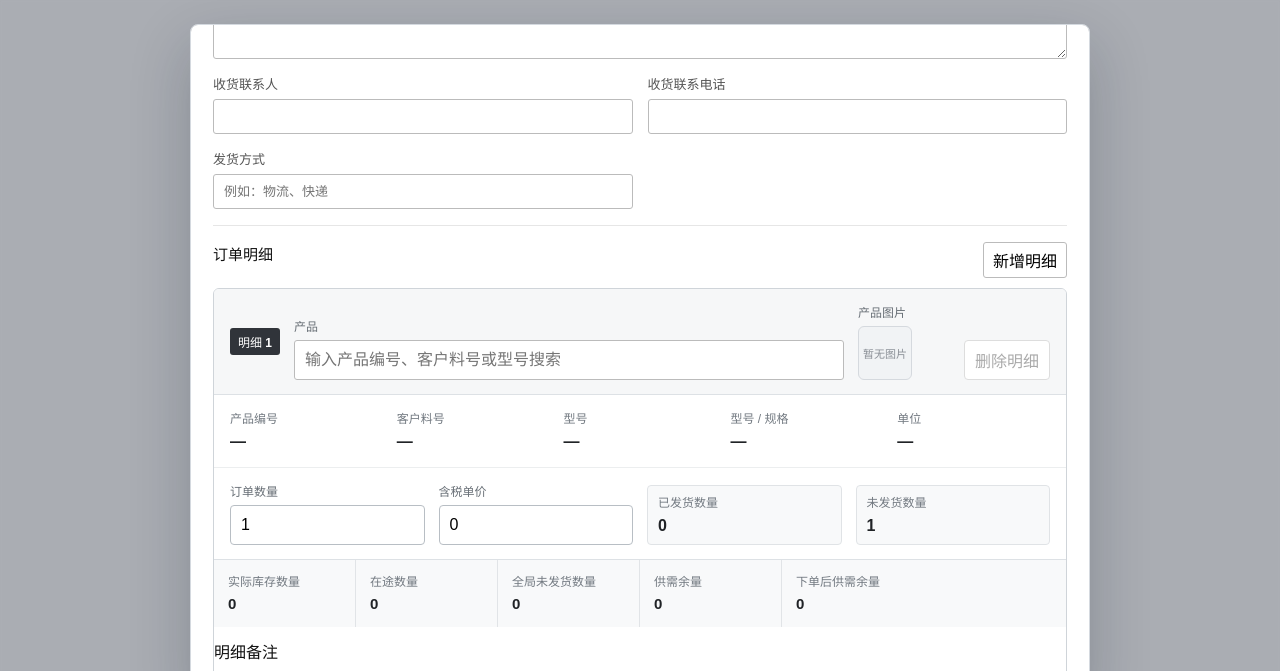
searches and displays product identifiers with product code first
(page scrolled)
Type "BR_D51-B" into the dropdown labelled "产品" at point(569, 360), box [294,340,844,380]
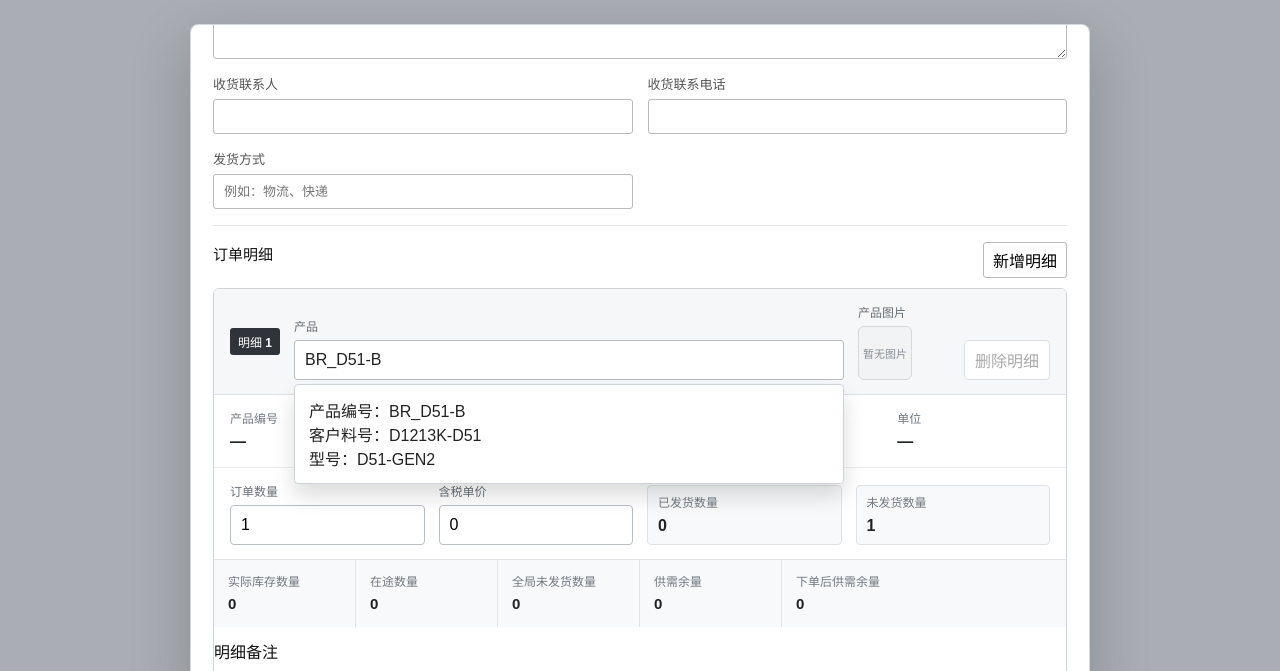
Now the option with test id "fuzzy-option-22" reads "产品编号：BR_D51-B 客户料号：D1213K-D51 型号：D51-GEN2"
Click the option with test id "fuzzy-option-22" at point(387, 412), box [299,389,839,479]
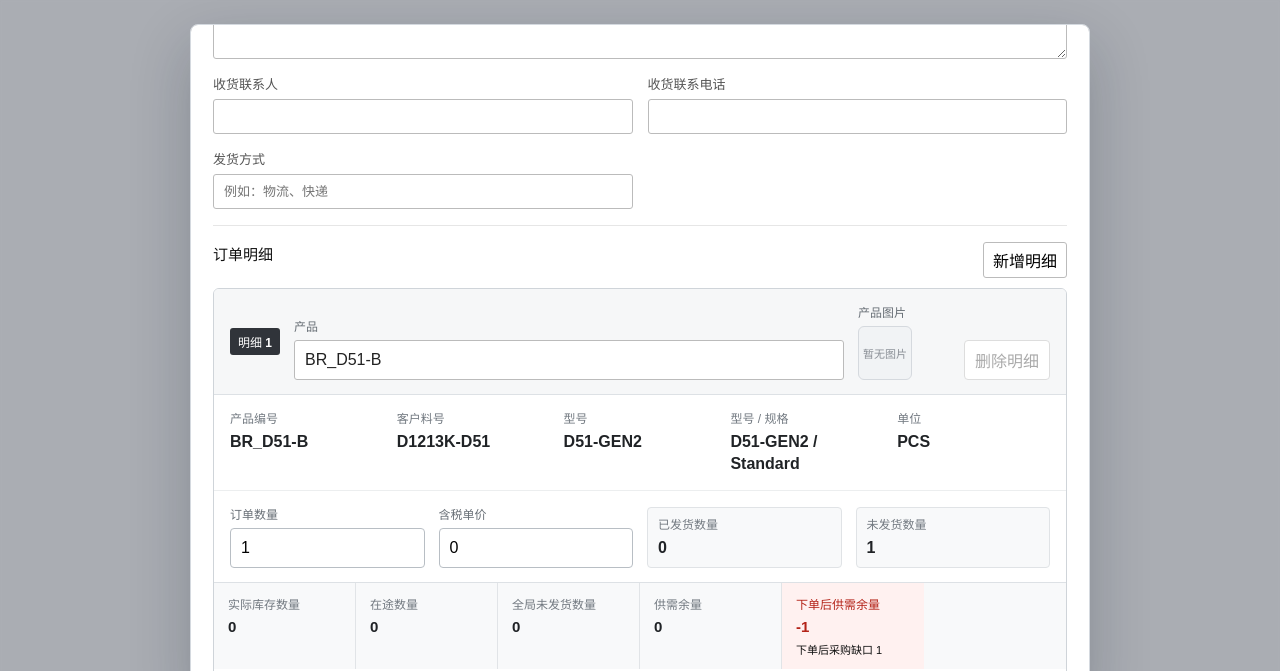
Now the element with test id "order-product-identifiers-0" reads "产品编号 BR_D51-B 客户料号 D1213K-D51 型号 D51-GEN2 型号 / 规格 D51-GEN2 / Standard 单位 PCS", box [214,395,1066,491]
